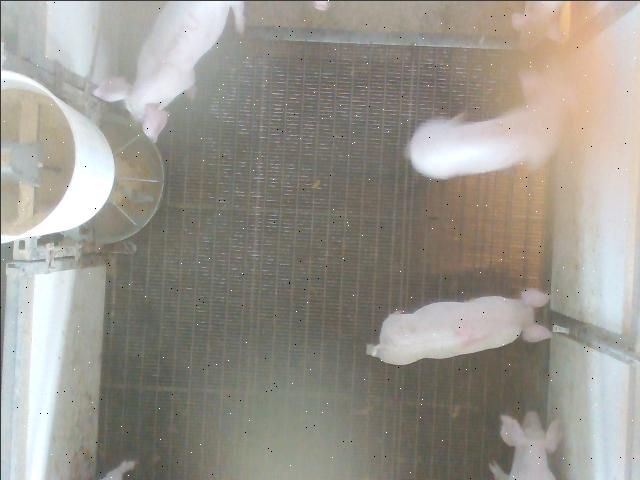pig-3: (94, 1, 242, 141)
pig-4: (365, 288, 550, 364)
